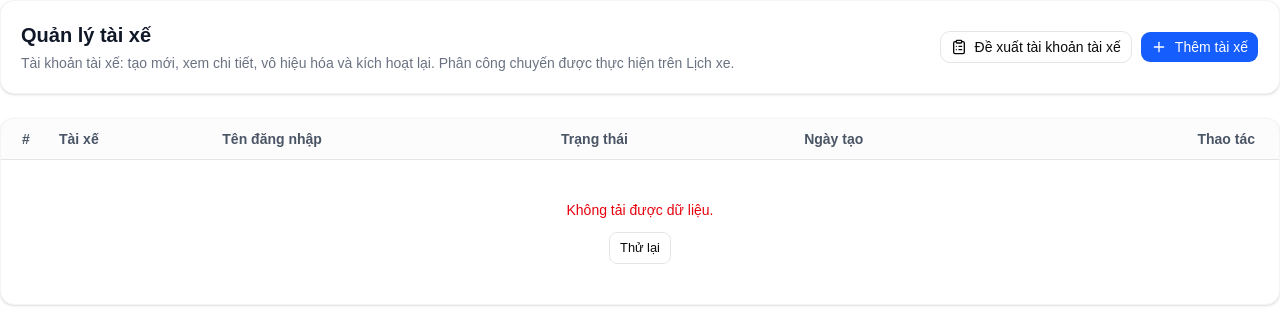
Test: DriverManagementPage › the list › shows the failure and reloads on retry
Expected: the message reads "Không tải được dữ liệu.", 566,202 -> 714,218
Click the button "Thử lại" at (640, 248), box 609,232 -> 671,264
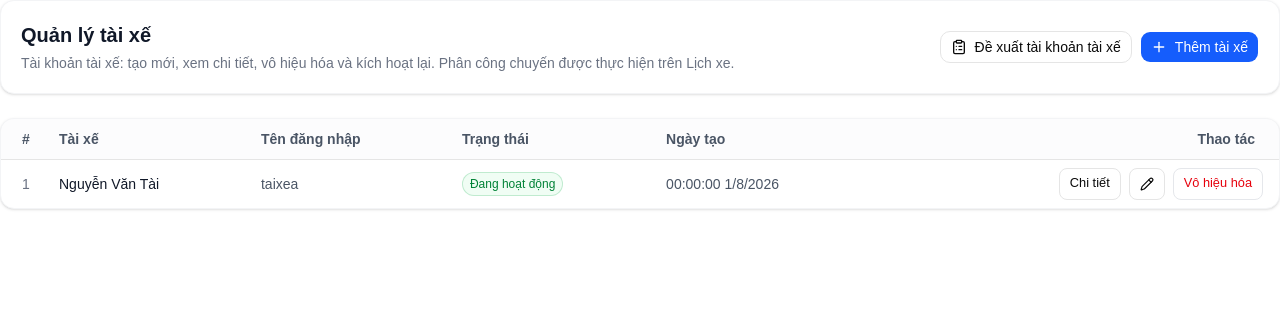
Expected: the text "Nguyễn Văn Tài" is shown, 51,159 -> 253,208
